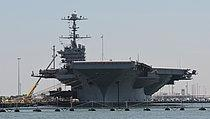MIL_Ship: (30, 9, 197, 104)
